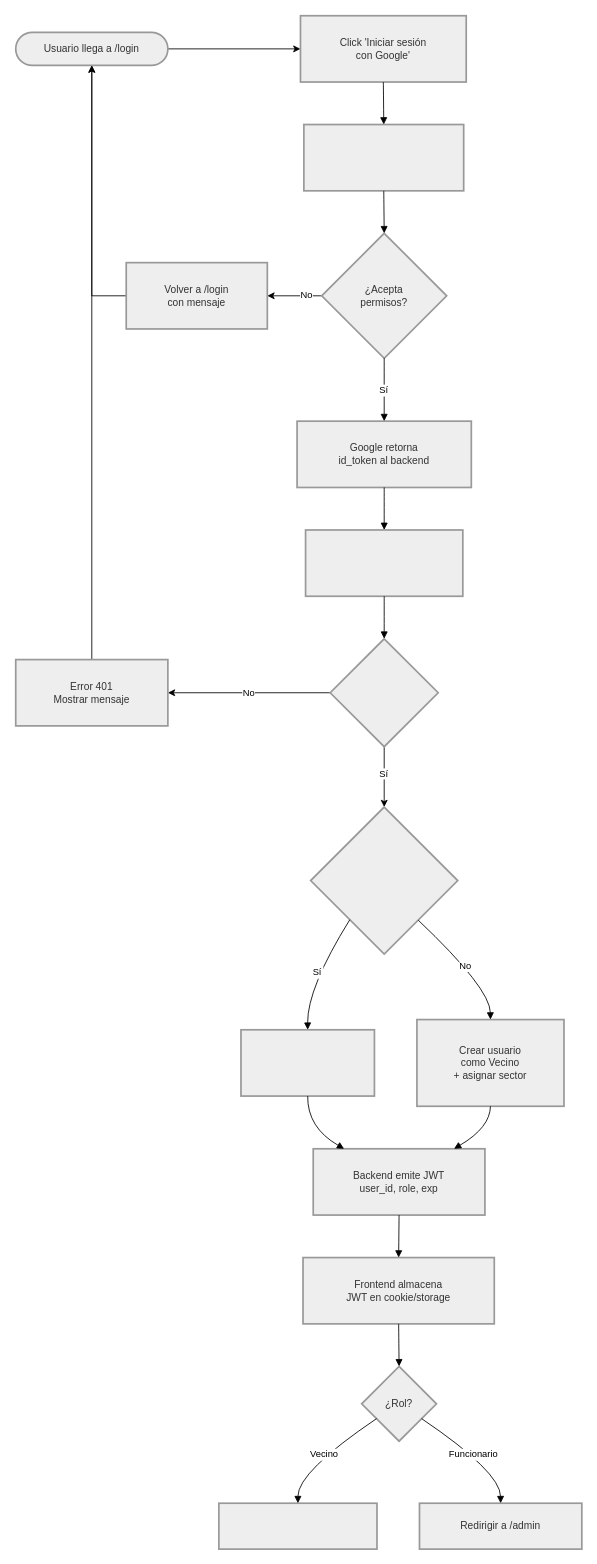
Image size: 597x1564. Some labels were removed from this diagram. Each missing label, with the box of its shape:
Backend valida token con Google: (304, 529, 463, 597)
Recuperar rol de la BD: (240, 1028, 375, 1096)
Redirigir a /home: (218, 1502, 377, 1550)
Redirigir a Google OAuth Consent: (303, 123, 464, 191)
¿Token válido?: (329, 638, 439, 747)
¿Usuario existe en BD?: (309, 806, 458, 955)
